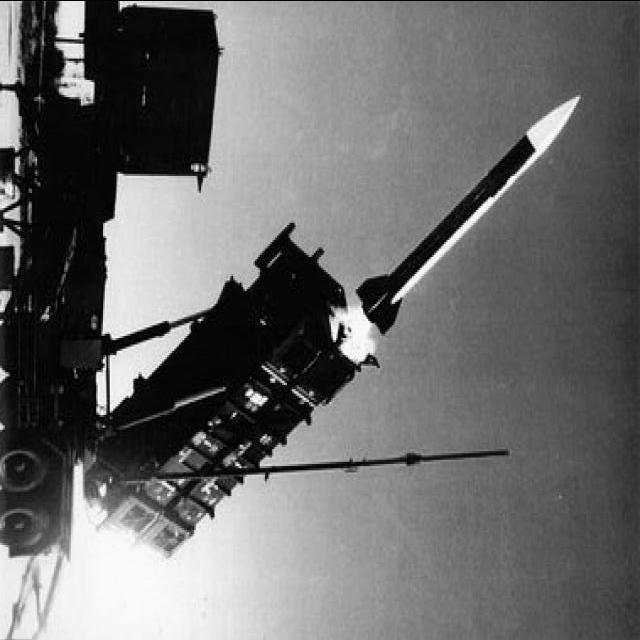missile: (351, 84, 591, 333)
